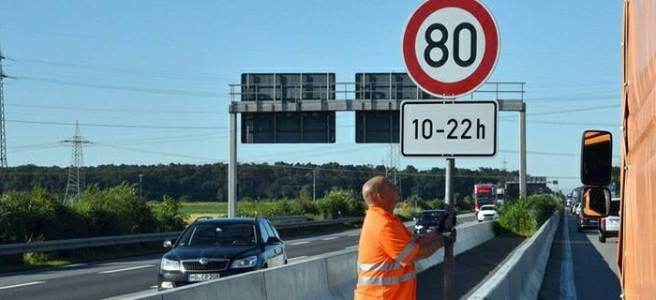Speed_limit_80km: (401, 1, 502, 97)
